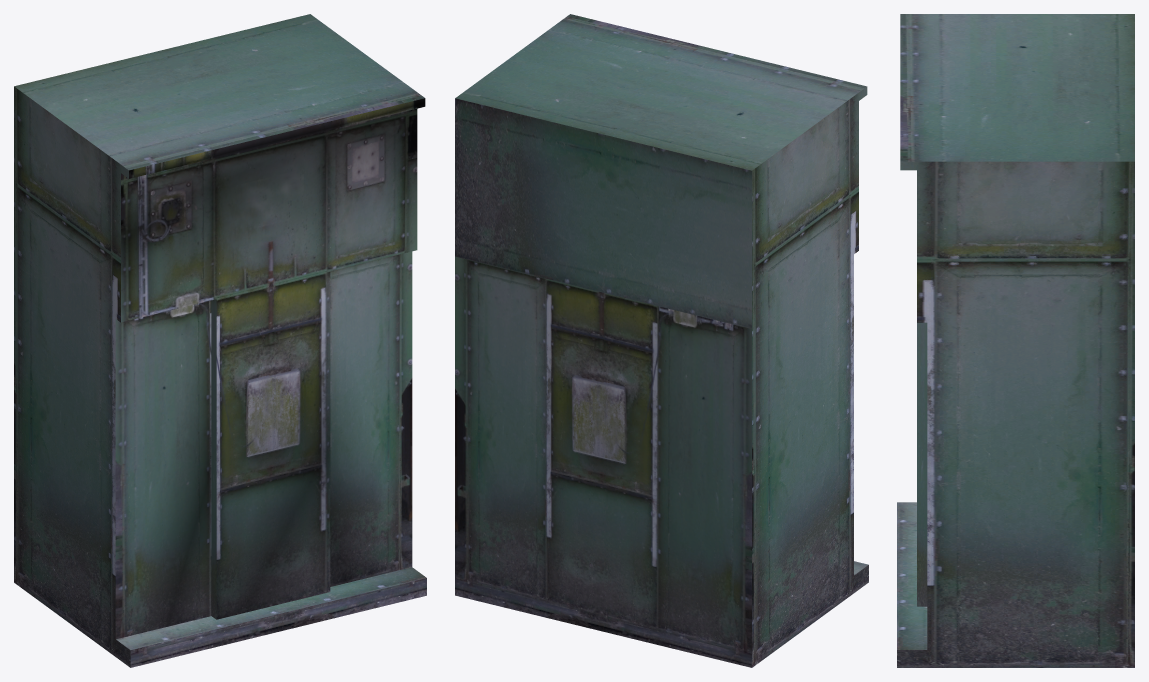
Rendered from industrial30.obj.
3 renders of one model, left to right at view 1: azimuth 30°, elevation 25°; view 2: azimuth 150°, elevation 25°; view 3: azimuth 270°, elevation 25°, orthographic. The views are drawn at different scales.
Visible parts, largest first — view 1: industrial30; view 2: industrial30; view 3: industrial30.
Part boxes in pixels (x1,y1,x2,y2): industrial30: (14, 14, 426, 667); industrial30: (455, 14, 868, 667); industrial30: (897, 14, 1134, 667).
Bounding box in the file's own units: 63.8 × 102 × 43.48.
1 material, 1 textured.
